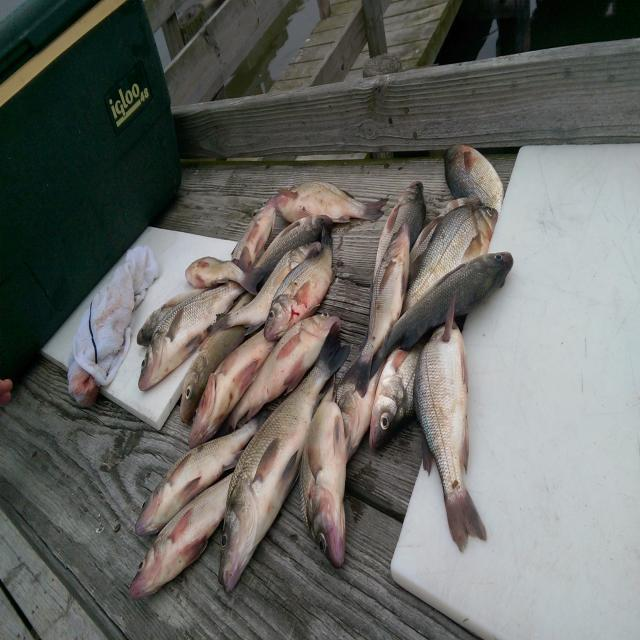Perch - White: (132, 135, 510, 606)
